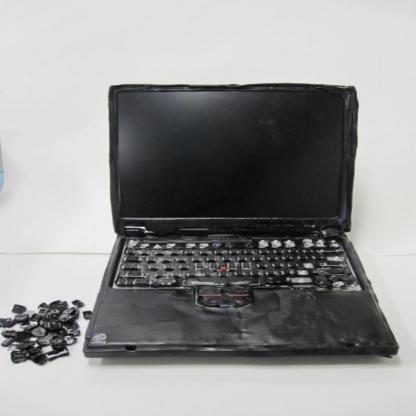board: (83, 82, 401, 359)
